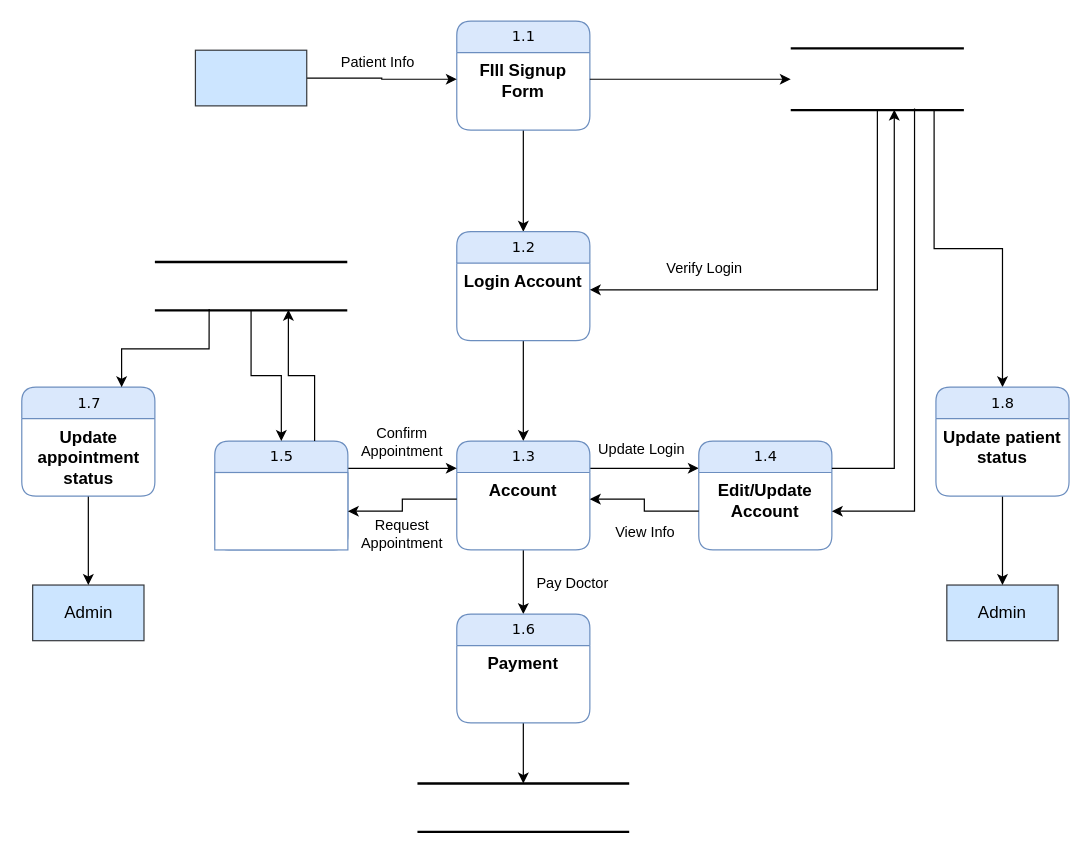
The diagram is 1090 pixels wide and 854 high, and some of its shapes have lost their labels. The shapes that lost their labels are listed below. From the top down, each one's centre as x and y in pixels, then its label:
At point (250, 77): "Patient".
At point (876, 79): "Patient Record".
At point (250, 285): "Appointment Record".
At point (281, 510): "Appointment".
At point (523, 807): "Payment Record".
